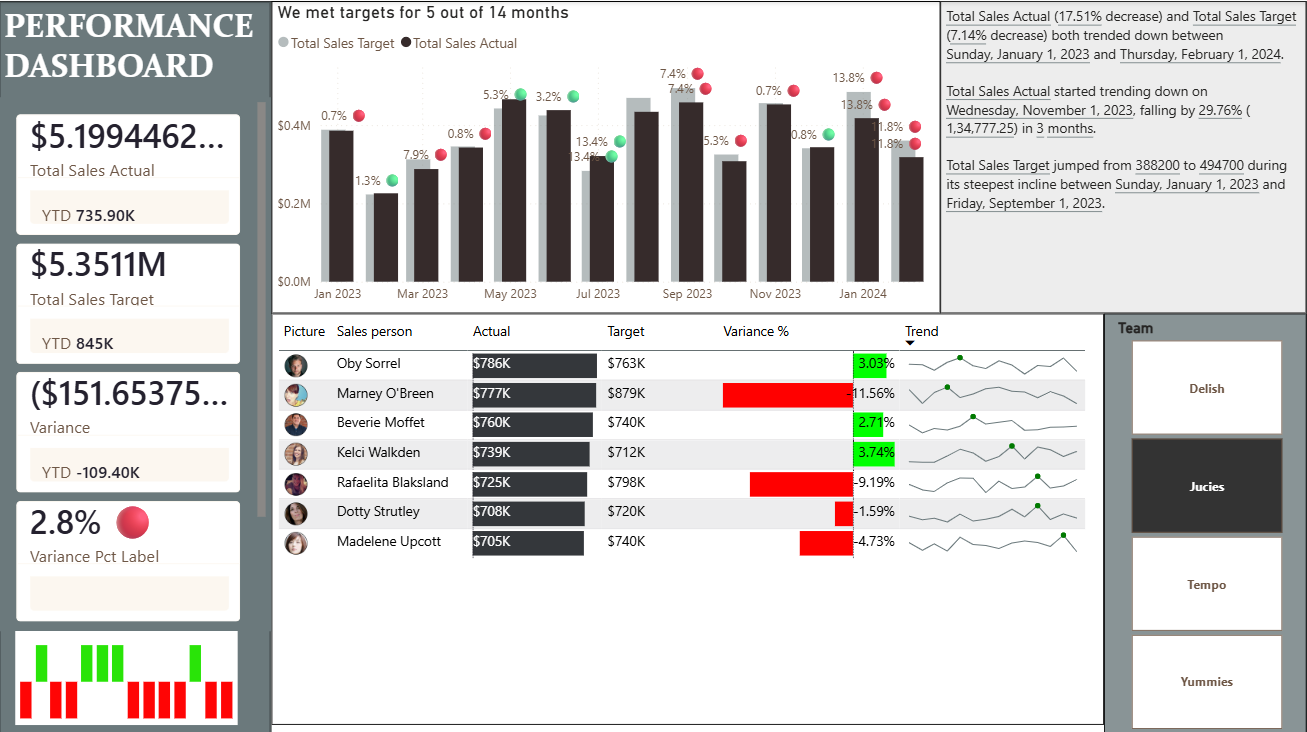

Layout of this report page (visuals, bound fields, positions):
{"tool":"powerbi","page":{"name":"Page 1","canvas":[1280,720],"ordinal":0},"visuals":[{"type":"shape","box":[0,0,266.6,720.2],"z":0},{"type":"cardVisual","fields":{"Data":["Actual.Total Sales Actual","Targets.Total Sales Target","Actual.Variance","Calculation Table.Variance Pct Label","Calculation Table.Month Target Reached"]},"box":[0,94.2,266.6,522.1],"z":1000},{"type":"clusteredColumnChart","fields":{"Category":["Calendar.Date"],"Y":["Calculation Table.Target Status"]},"box":[15.9,616.3,217.7,91.7],"z":2000},{"type":"clusteredColumnChart","fields":{"Category":["Calendar.Date"],"Y":["Calculation Table.Total Sales Target","Calculation Table.Total Sales Actual"]},"box":[266.6,0,654.2,305.7],"z":3000},{"type":"slicer","fields":{"Values":["dimPeople.Team"]},"box":[1081,305.7,199.3,414.5],"z":4000},{"type":"tableEx","fields":{"Values":["dimPeople.Picture","dimPeople.Sales person","Calculation Table.Total Sales Actual","Calculation Table.Total Sales Target","Calculation Table.Variance %","SparklineData(Calculation Table.Total Sales Actual_[Calendar.Date])"]},"box":[266.6,305.7,814.4,402.3],"z":5000},{"type":"textbox","box":[920.8,0,359.5,305.7],"z":6000},{"type":"textbox","box":[0,0,266.6,94.2],"z":7000}]}

Visuals, with their boxes in screenshot pixels (x1, y1, x2, y2), scaled from the page's 1280x720 canvas onto the 1307x732 screenshot:
shape: Rect(0, 0, 272, 731)
cardVisual - Actual.Total Sales Actual x Targets.Total Sales Target: Rect(0, 96, 272, 627)
clusteredColumnChart - Calendar.Date x Calculation Table.Target Status: Rect(16, 627, 239, 720)
clusteredColumnChart - Calendar.Date x Calculation Table.Total Sales Target: Rect(272, 0, 940, 311)
slicer - dimPeople.Team: Rect(1104, 311, 1306, 731)
tableEx - dimPeople.Picture x dimPeople.Sales person: Rect(272, 311, 1104, 720)
textbox: Rect(940, 0, 1306, 311)
textbox: Rect(0, 0, 272, 96)
